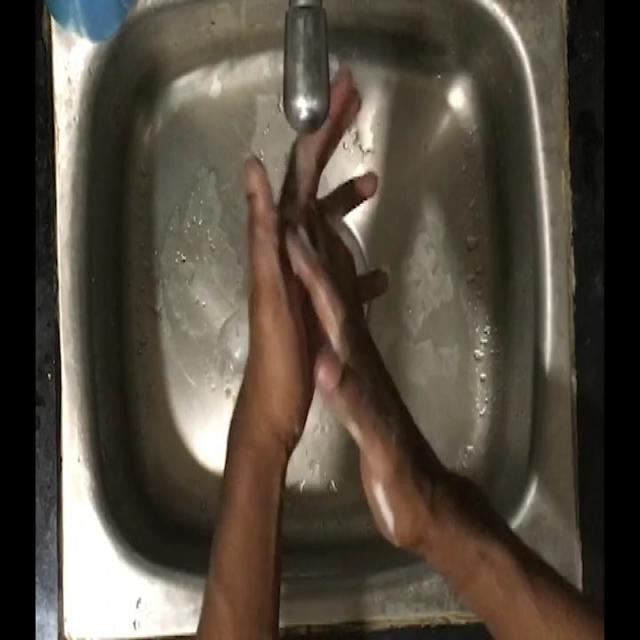step_3: (235, 62, 397, 433)
